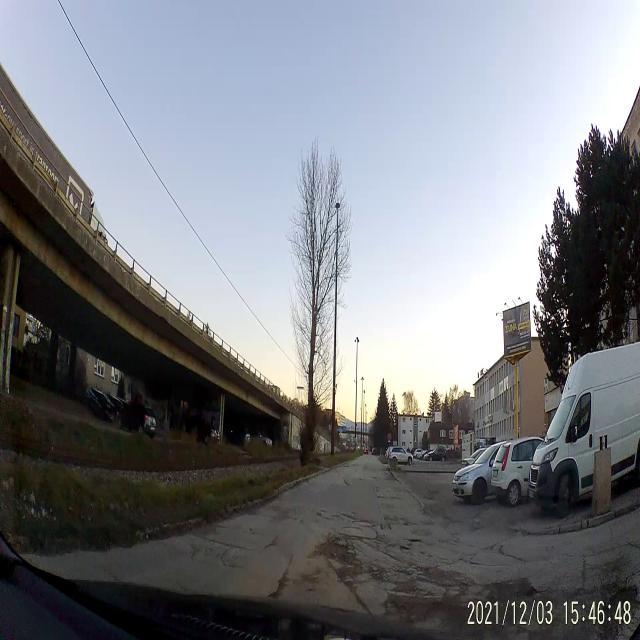Manhole: (409, 526, 432, 538), (340, 524, 362, 536), (356, 520, 373, 529)
Pothole: (316, 532, 357, 576), (488, 573, 536, 601), (398, 542, 412, 558), (342, 478, 351, 490)
